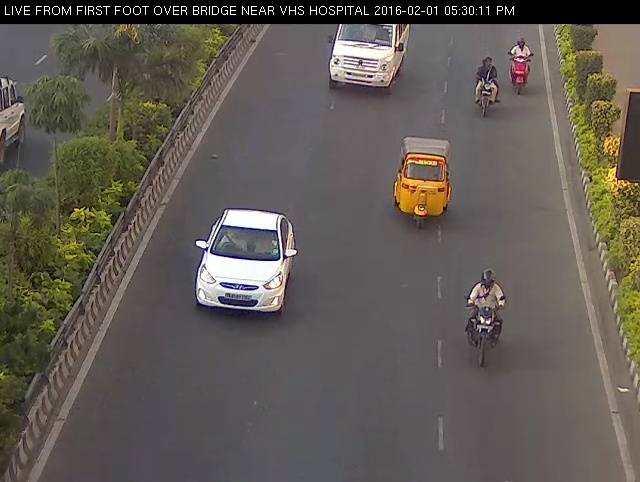Auto: (389, 123, 462, 242)
Bus: (314, 10, 423, 104)
Car: (181, 189, 310, 334)
Person: (453, 257, 513, 377), (463, 51, 504, 124), (500, 34, 541, 102)
